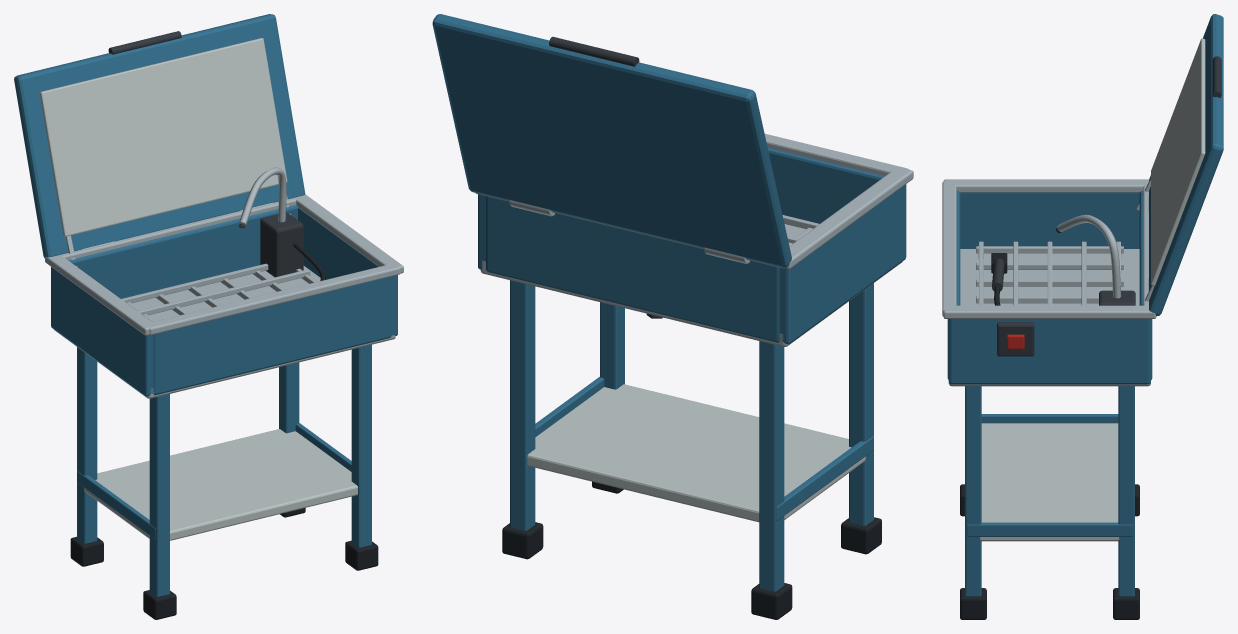
Rendered from city-open-parts-washer.glb.
The picture shows the model from 3 angles, left to right: view 1: azimuth 30°, elevation 25°; view 2: azimuth 150°, elevation 25°; view 3: azimuth 270°, elevation 25°; orthographic projection. The views are drawn at different scales.
Visible parts, largest first — view 1: Assembly | Deep blue service paint, Assembly | Powder-coated light service metal, Assembly | Brushed exposed steel, Assembly | Dark mechanism trim, Assembly | Rubber feet and hoses; view 2: Assembly | Deep blue service paint, Assembly | Powder-coated light service metal, Assembly | Brushed exposed steel, Assembly | Rubber feet and hoses, Assembly | Dark mechanism trim; view 3: Assembly | Deep blue service paint, Assembly | Powder-coated light service metal, Assembly | Brushed exposed steel, Assembly | Dark mechanism trim, Assembly | Rubber feet and hoses.
Boxes of the visible parts, bbox=[...] form: Assembly | Deep blue service paint: bbox=[14, 14, 397, 596]; Assembly | Powder-coated light service metal: bbox=[39, 38, 357, 540]; Assembly | Brushed exposed steel: bbox=[45, 167, 403, 398]; Assembly | Dark mechanism trim: bbox=[108, 31, 303, 277]; Assembly | Rubber feet and hoses: bbox=[70, 242, 378, 619]; Assembly | Deep blue service paint: bbox=[432, 14, 906, 591]; Assembly | Powder-coated light service metal: bbox=[527, 384, 865, 522]; Assembly | Brushed exposed steel: bbox=[471, 133, 913, 346]; Assembly | Rubber feet and hoses: bbox=[502, 481, 881, 619]; Assembly | Dark mechanism trim: bbox=[549, 36, 662, 318]; Assembly | Deep blue service paint: bbox=[947, 14, 1223, 596]; Assembly | Powder-coated light service metal: bbox=[980, 38, 1205, 541]; Assembly | Brushed exposed steel: bbox=[942, 178, 1156, 386]; Assembly | Dark mechanism trim: bbox=[992, 56, 1221, 356]; Assembly | Rubber feet and hoses: bbox=[960, 253, 1139, 619].
Bounding box in the file's own units: 0.9455 × 1.58 × 0.8232.
